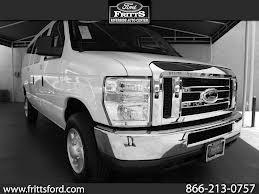car: (20, 22, 249, 184)
